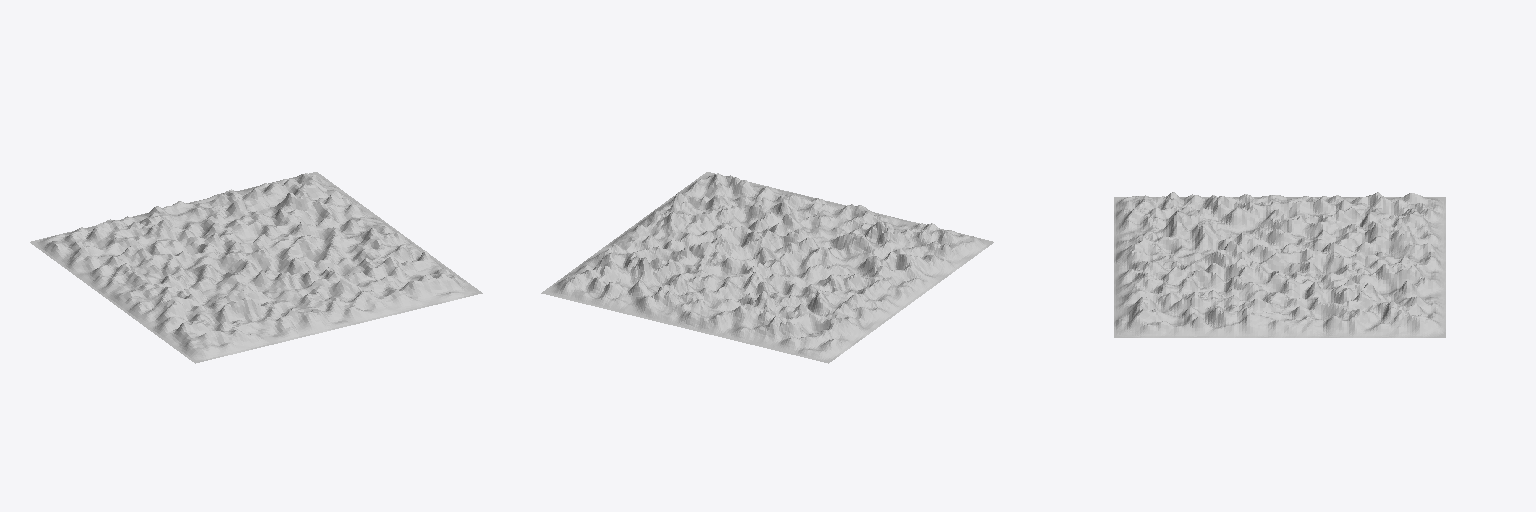
Rendered from Landscape.obj.
The picture shows the model from 3 angles: view 1: azimuth 30°, elevation 25°; view 2: azimuth 150°, elevation 25°; view 3: azimuth 270°, elevation 25°; orthographic projection.
Parts seen in each view (by area): view 1: Landscape; view 2: Landscape; view 3: Landscape.
Part boxes in pixels (left/top/right/bottom): Landscape: left=30, top=172, right=482, bottom=363; Landscape: left=541, top=172, right=993, bottom=363; Landscape: left=1114, top=192, right=1445, bottom=337.
Bounding box in the file's own units: 20 × 1.54 × 20.